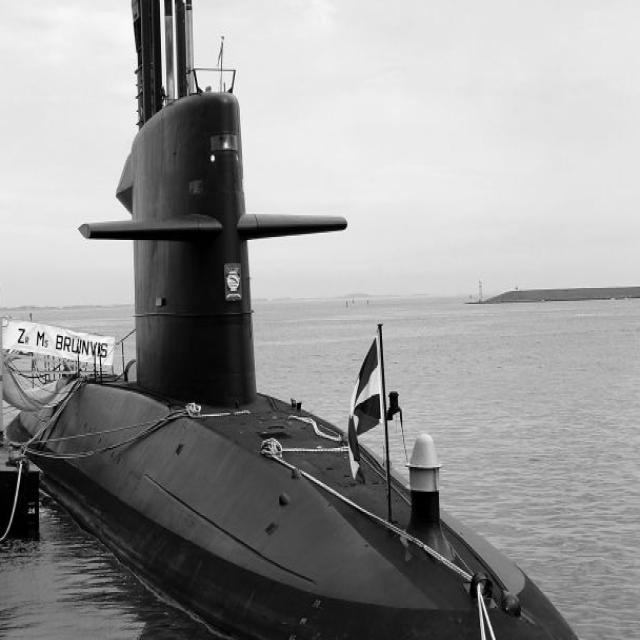submarine: (1, 1, 586, 640)
